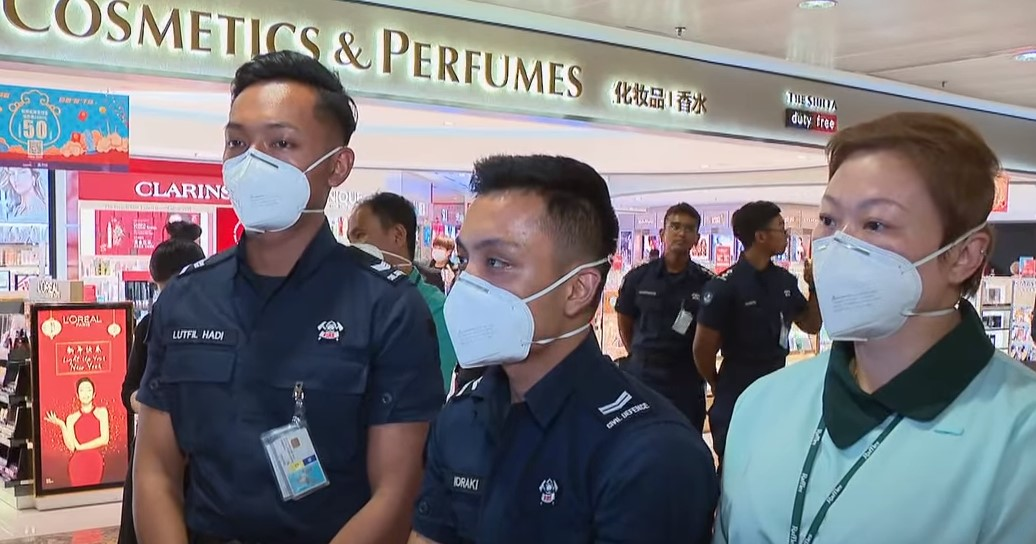face_no_mask: (729, 196, 795, 267), (657, 201, 703, 260)
face_with_mask: (806, 115, 1002, 357), (440, 153, 619, 363), (216, 49, 350, 235), (348, 192, 422, 265)
